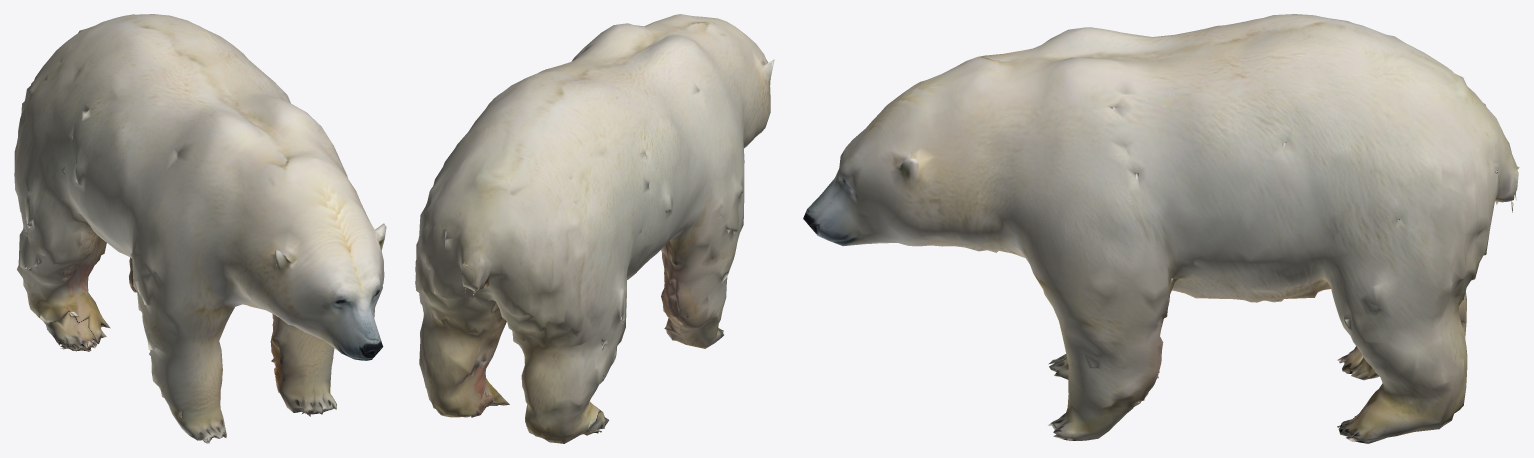
Rendered from polar-bear.glb.
3 renders of one model, left to right at view 1: azimuth 30°, elevation 25°; view 2: azimuth 150°, elevation 25°; view 3: azimuth 270°, elevation 25°, orthographic. The views are drawn at different scales.
Size of the model in its own units: 0.7455 by 1.14 by 1.97.
Materials: 1 (1 with a texture image).
